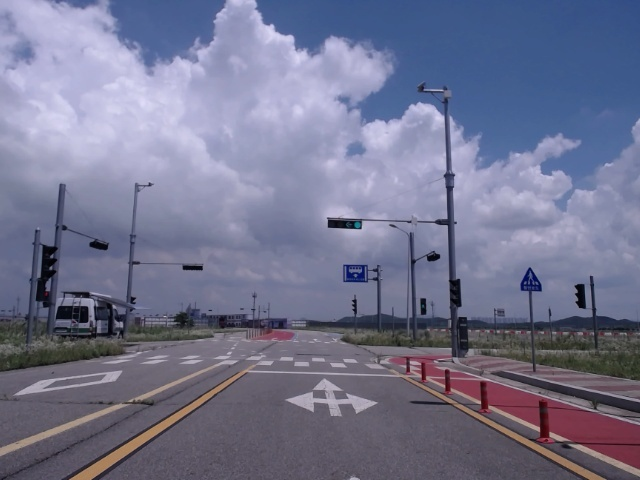all_green_4: (327, 218, 362, 229)
